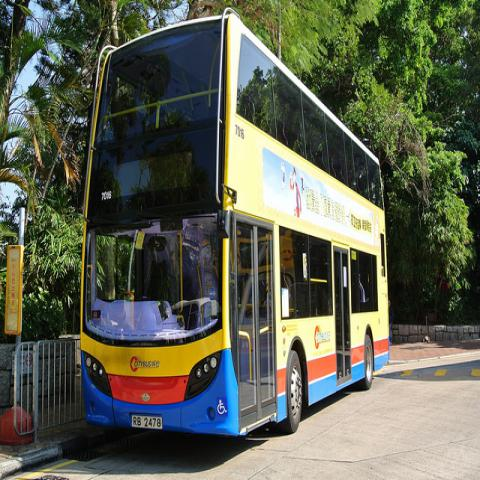bus: (79, 12, 390, 437)
